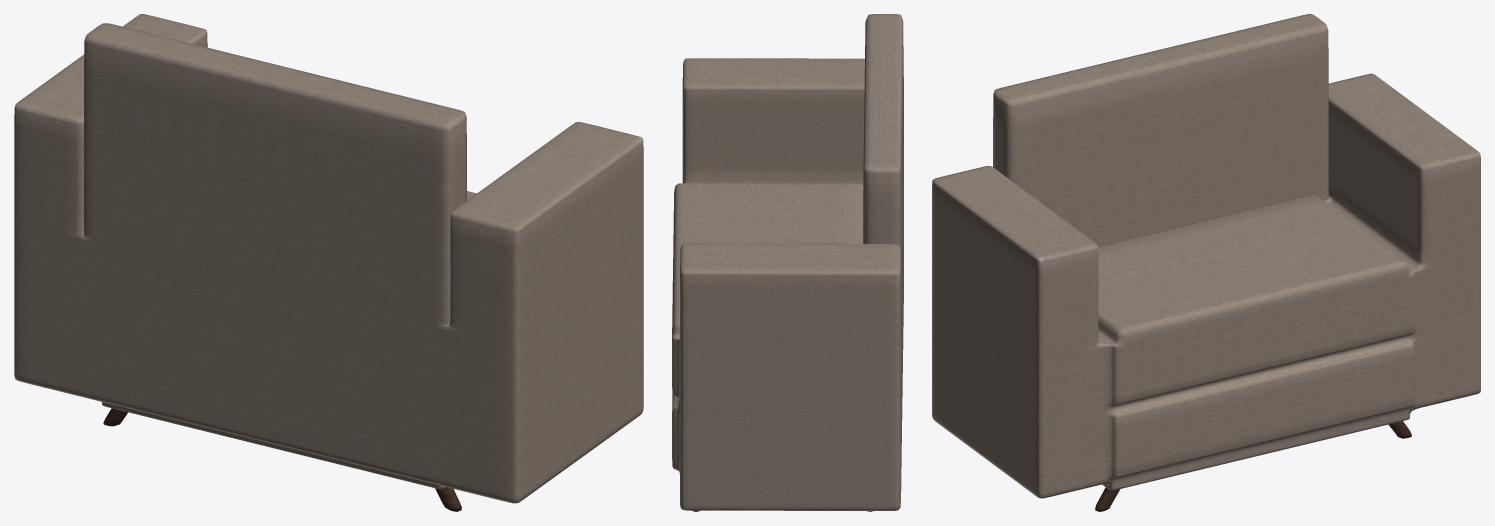
Rendered from _finalSideChair.fbx.
3 renders of one model, left to right at view 1: azimuth 30°, elevation 25°; view 2: azimuth 150°, elevation 25°; view 3: azimuth 270°, elevation 25°, orthographic. The views are drawn at different scales.
Visible parts, largest first — view 1: sideChair; view 2: sideChair; view 3: sideChair.
Part boxes in pixels (box(x1,y1,x2,y2)): sideChair: box(14, 14, 643, 511); sideChair: box(672, 14, 903, 511); sideChair: box(932, 14, 1480, 511).
Bounding box in the file's own units: 415 × 361 × 516.
1 material, 1 textured.
